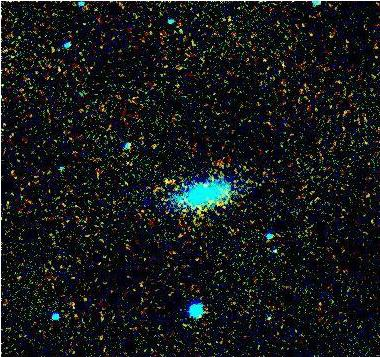star: (154, 170, 184, 200)
